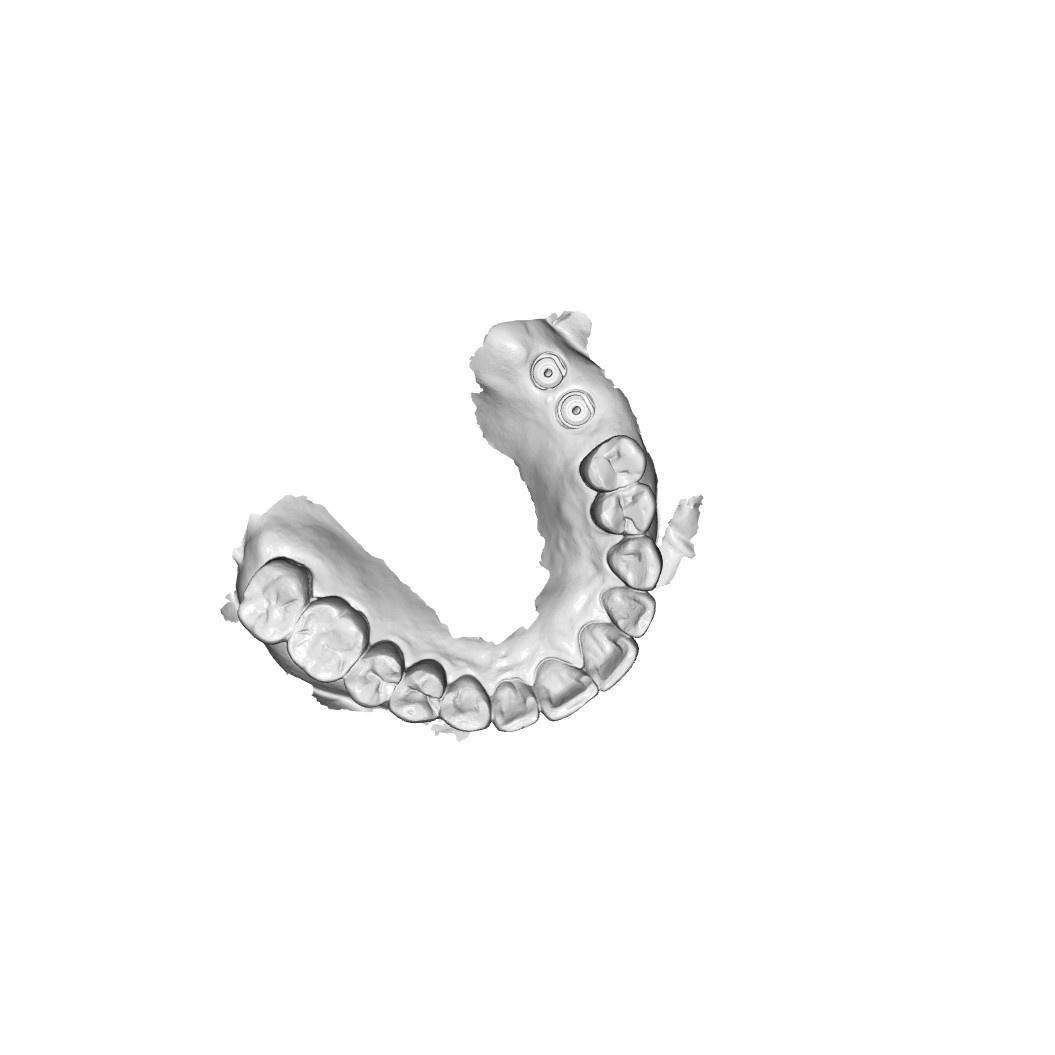canine: (604, 536, 665, 593), (440, 673, 495, 735)
implant: (554, 391, 601, 428), (528, 349, 566, 392)
incisor: (580, 621, 638, 694), (601, 583, 661, 643), (537, 659, 595, 721), (488, 676, 540, 734)
molar: (238, 556, 312, 645), (291, 603, 365, 675)
premolar: (343, 644, 404, 711), (578, 433, 648, 491), (390, 656, 446, 724), (594, 487, 658, 539)
